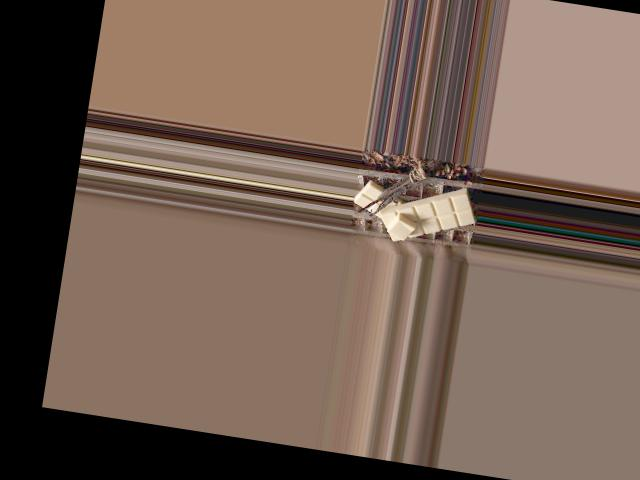chocolate: (373, 177, 478, 252)
